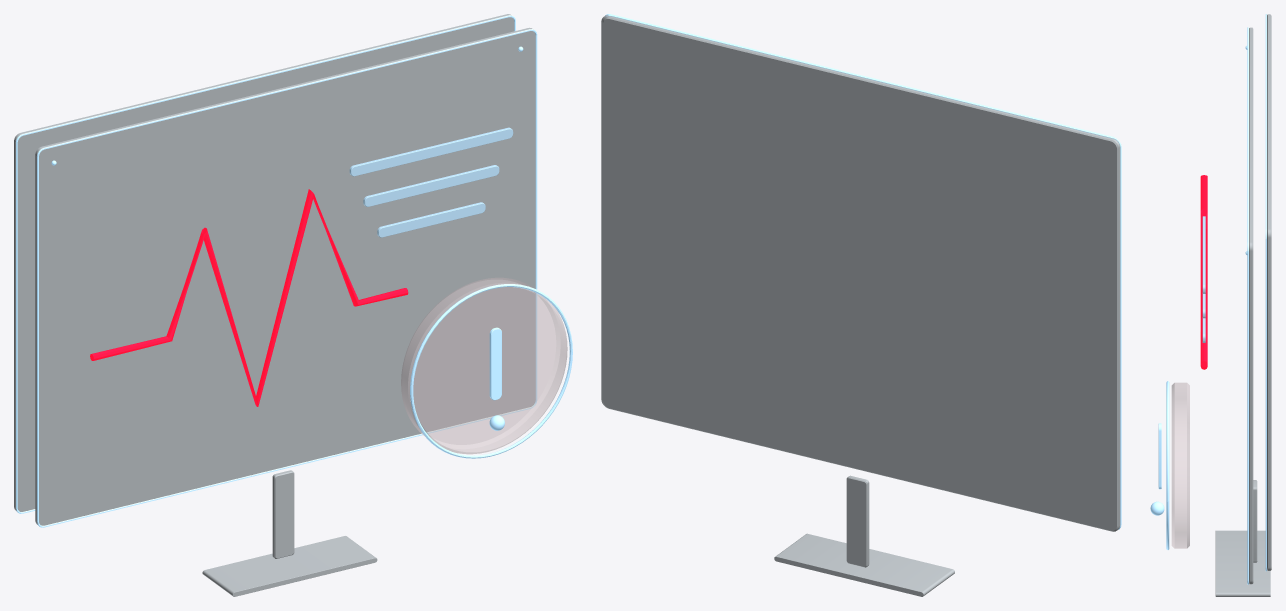
Rendered from 24-monitoring.glb.
3 renders of one model, left to right at view 1: azimuth 30°, elevation 25°; view 2: azimuth 150°, elevation 25°; view 3: azimuth 270°, elevation 25°, orthographic. The views are drawn at different scales.
Parts seen in each view (by area): view 1: BC thin clear technical glass, BC subtle ruby technical glass, BC cool glass edge, BC etched pale glass, BC ruby signal edge; view 2: BC thin clear technical glass, BC cool glass edge; view 3: BC thin clear technical glass, BC cool glass edge, BC subtle ruby technical glass, BC ruby signal edge, BC etched pale glass.
Boxes of the visible parts, x1,y1,x2,y2 form: BC thin clear technical glass: [14, 14, 535, 596]; BC subtle ruby technical glass: [401, 277, 567, 454]; BC cool glass edge: [16, 15, 572, 527]; BC etched pale glass: [349, 127, 513, 237]; BC ruby signal edge: [90, 189, 408, 406]; BC thin clear technical glass: [601, 15, 1120, 596]; BC cool glass edge: [605, 14, 1121, 529]; BC thin clear technical glass: [1215, 14, 1271, 596]; BC cool glass edge: [1150, 14, 1266, 584]; BC subtle ruby technical glass: [1171, 382, 1189, 548]; BC ruby signal edge: [1200, 175, 1207, 369]; BC etched pale glass: [1202, 216, 1205, 342].
Bounding box in the file's own units: 2.05 × 1.87 × 0.466.
